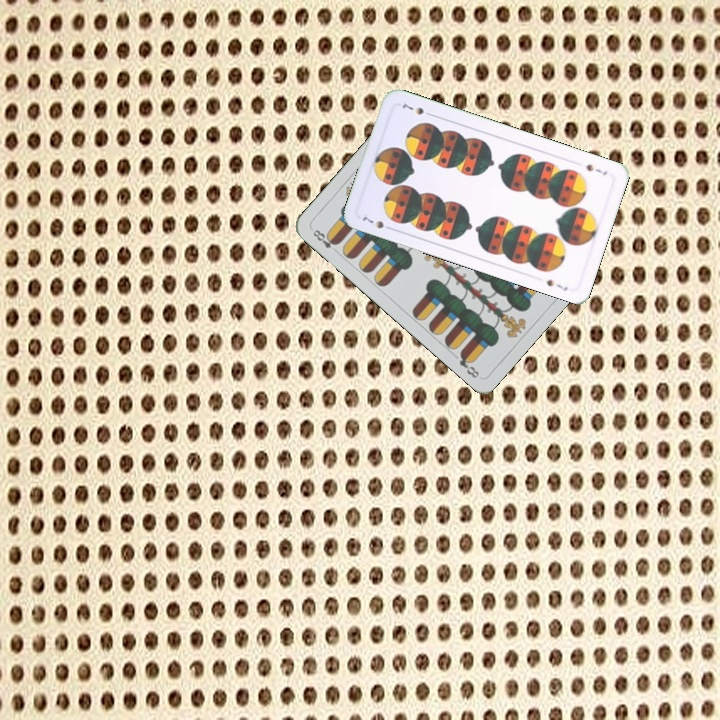E8: (309, 225, 341, 256)
S7: (358, 211, 396, 233), (582, 160, 610, 178)
